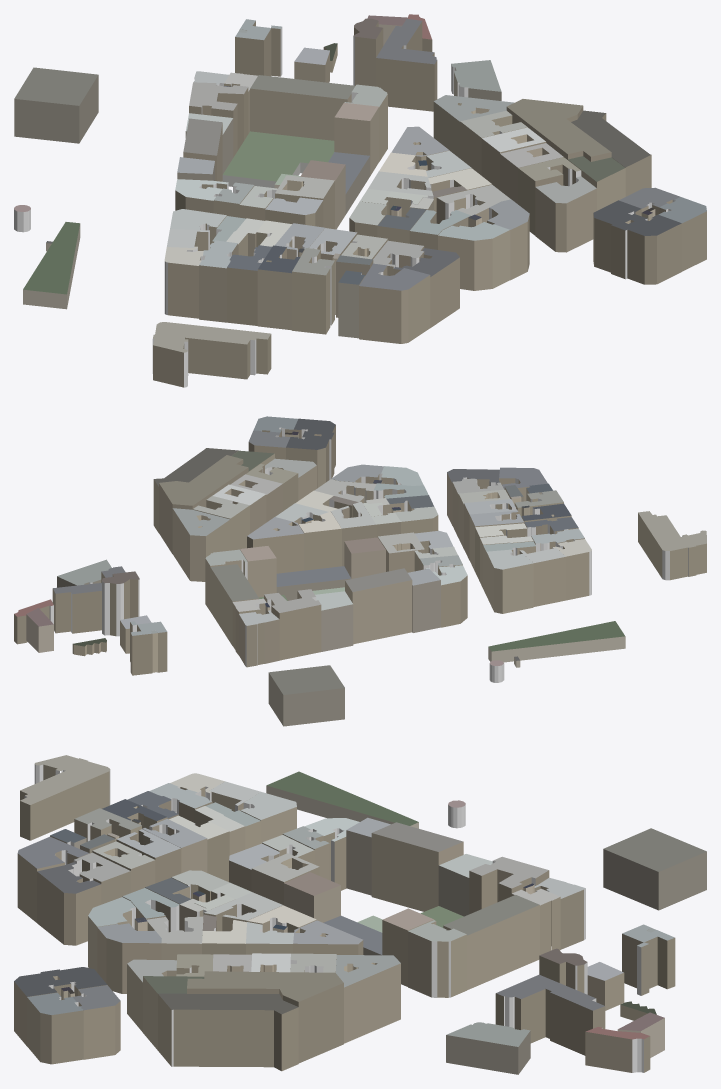
3 renders of one model, top to bottom at view 1: azimuth 30°, elevation 25°; view 2: azimuth 150°, elevation 25°; view 3: azimuth 270°, elevation 25°, orthographic. The views are drawn at different scales.
Parts seen in each view (by area): view 1: tuile; view 2: tuile; view 3: tuile.
Boxes of the visible parts, <box> form: tuile: <box>14,14,706,387</box>; tuile: <box>14,416,706,726</box>; tuile: <box>14,755,706,1074</box>.
Bounding box in the file's own units: 278 × 33.1 × 284.
